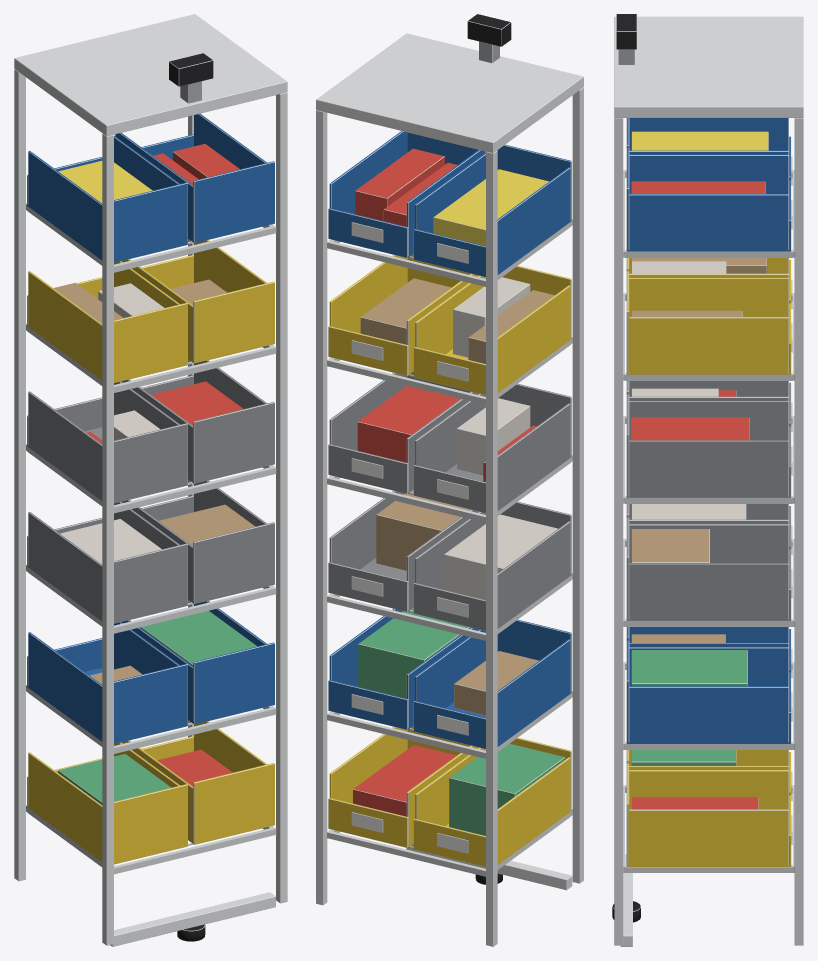
Rendered from carousel_hcarrier_v0.glb.
The picture shows the model from 3 angles, left to right: view 1: azimuth 30°, elevation 25°; view 2: azimuth 150°, elevation 25°; view 3: azimuth 270°, elevation 25°; orthographic projection. The views are drawn at different scales.
Visible parts, largest first — view 1: HCarrier_v0, HCarrier_v0_Wire; view 2: HCarrier_v0, HCarrier_v0_Wire; view 3: HCarrier_v0, HCarrier_v0_Wire.
Part boxes in pixels (x1,y1,x2,y2): HCarrier_v0: [14, 14, 287, 946]; HCarrier_v0_Wire: [26, 203, 276, 874]; HCarrier_v0: [316, 14, 583, 946]; HCarrier_v0_Wire: [327, 219, 572, 876]; HCarrier_v0: [612, 14, 803, 946]; HCarrier_v0_Wire: [623, 169, 794, 872].
Bounding box in the file's own units: 0.52 × 2.4 × 0.465.
